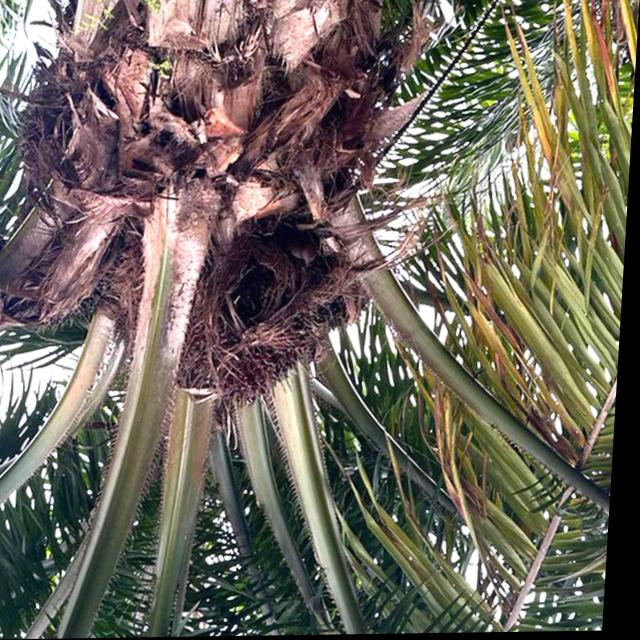ripe: (180, 304, 329, 422)
